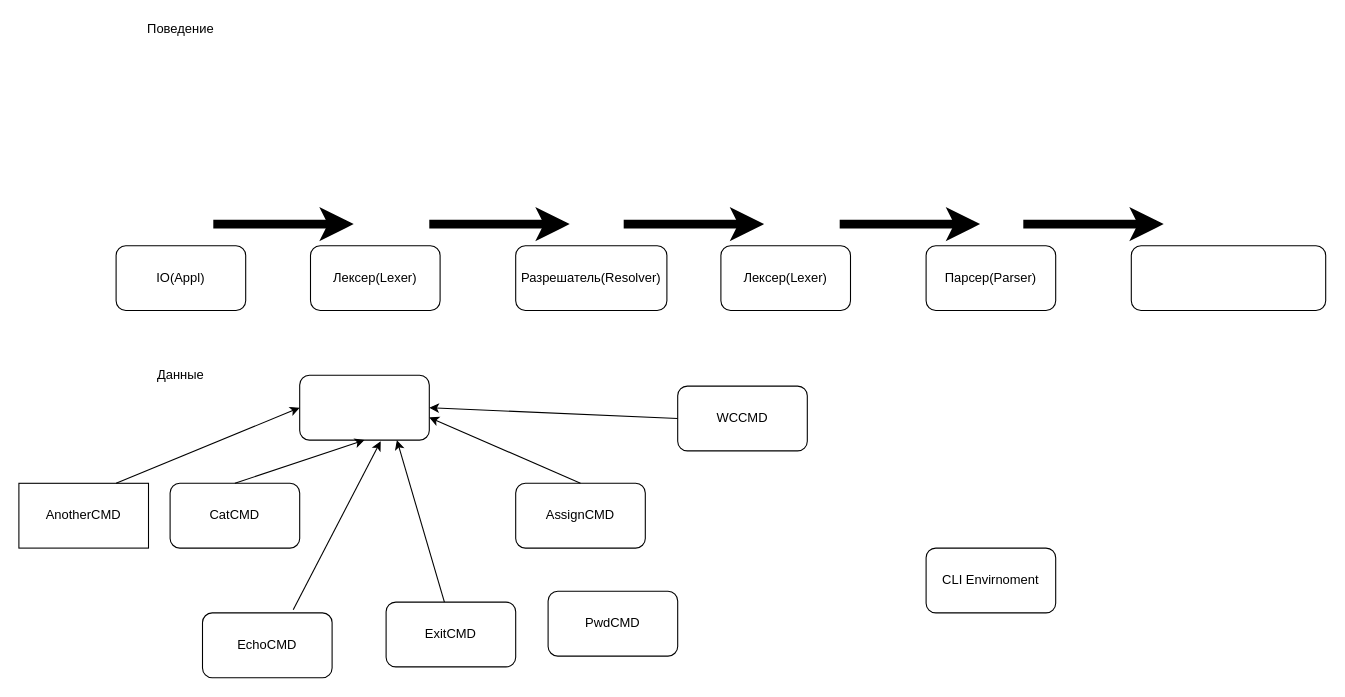
Image size: 1345x697. Some labels were removed from this diagram. The shapes that lost their labels are listed below. From the top down, each one's centre as x and y in pixels, then its label:
At (x=1228, y=277): "Интерпритатор(Interpreter)".
At (x=364, y=407): "CMD".
